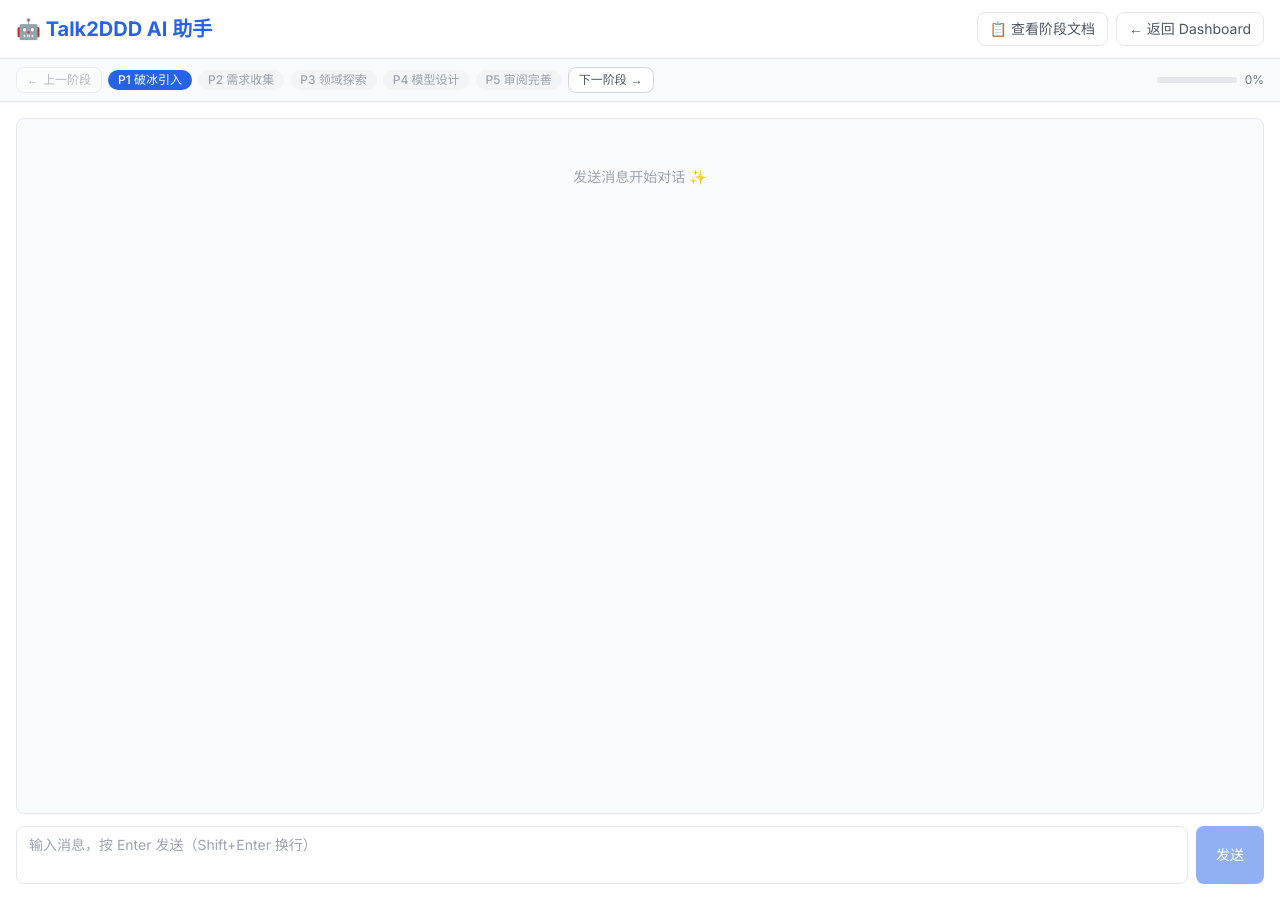
Test: ChatPage › shows phase document panel after receiving a phase_document in the response
Step 1. Type "你好" into the text box named "message input" → (602, 855), box [16, 826, 1188, 884]
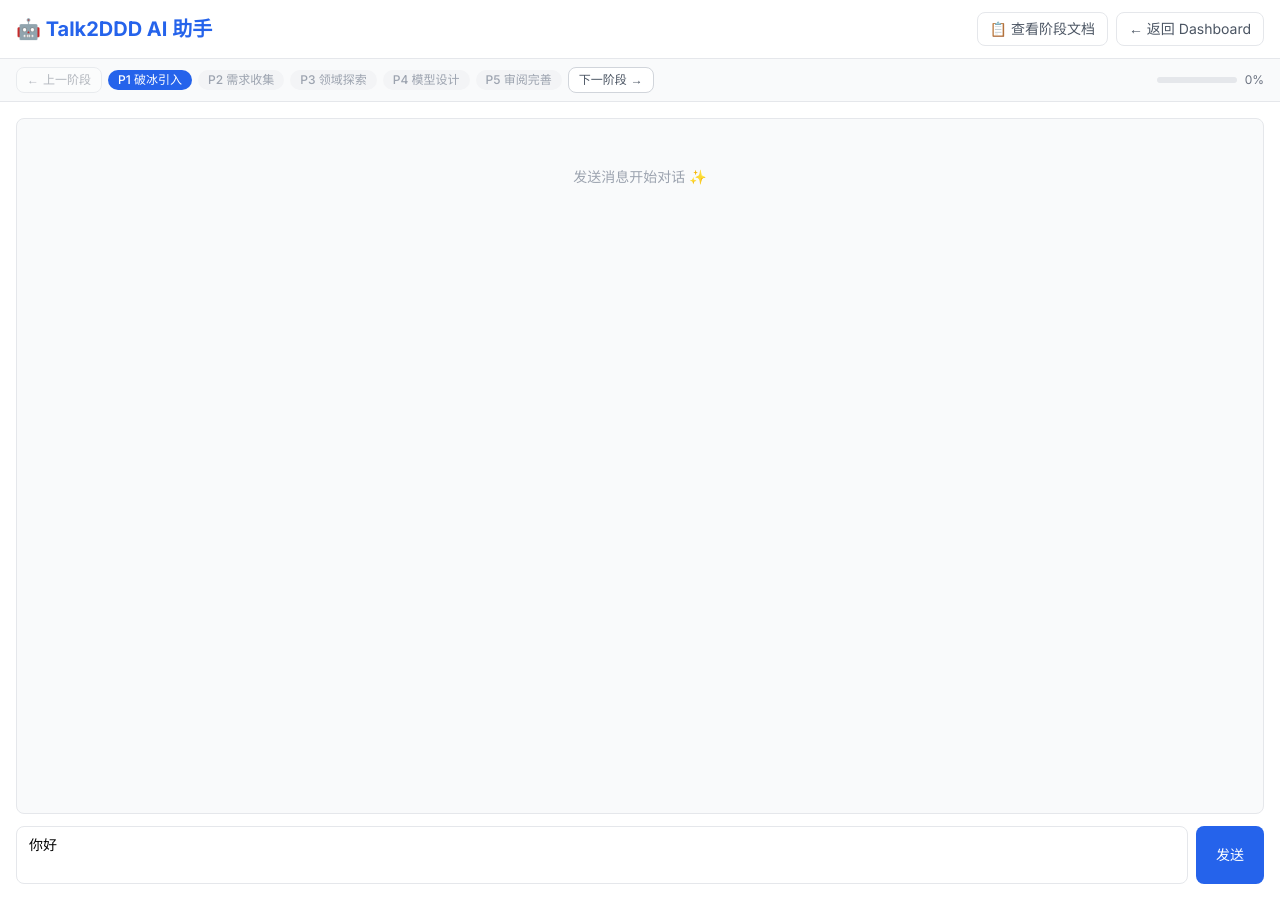
Step 2. Click the button with aria-label "send message" → click(1230, 855), box [1196, 826, 1264, 884]
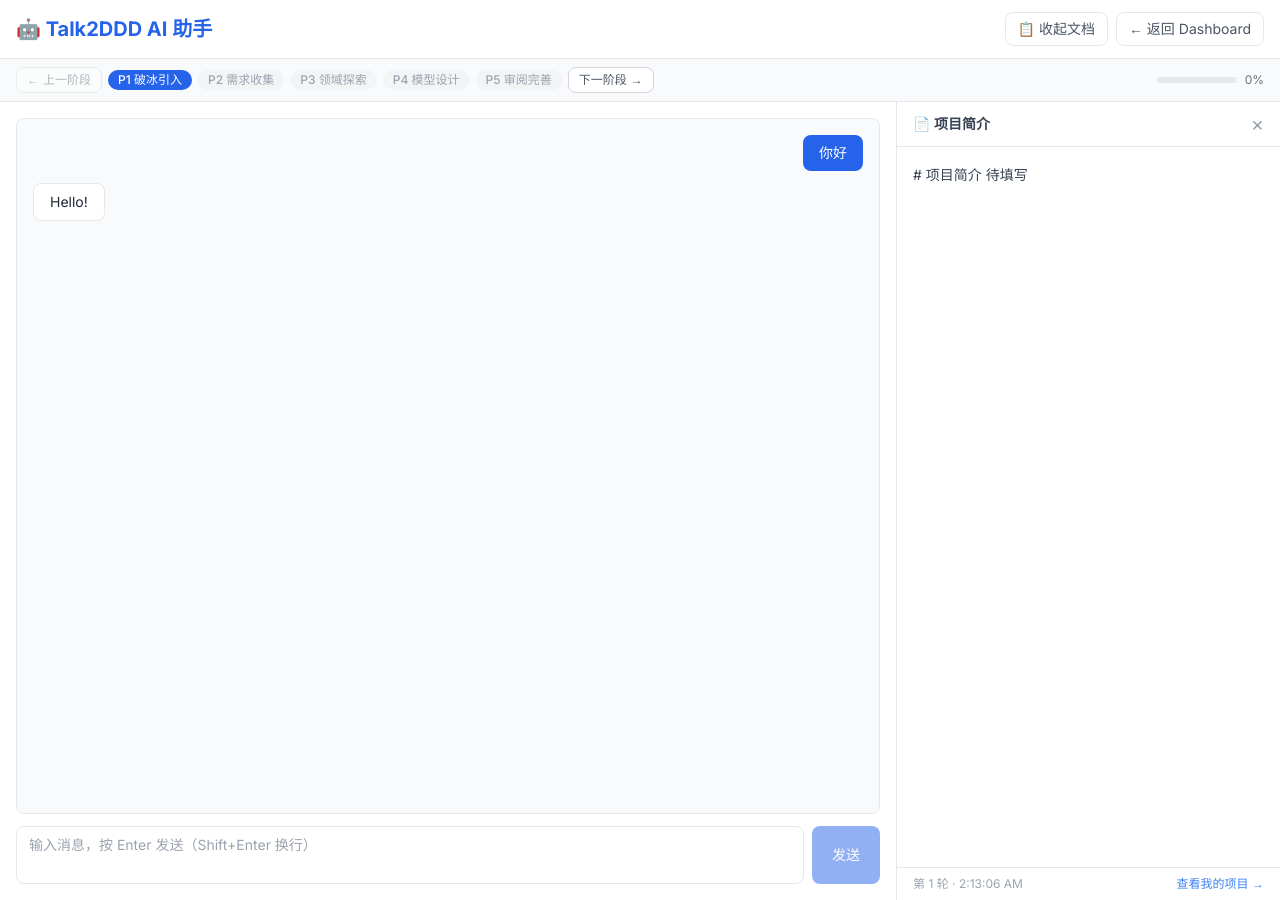
Now the element named "phase document panel" is shown, box [896, 102, 1279, 899]
